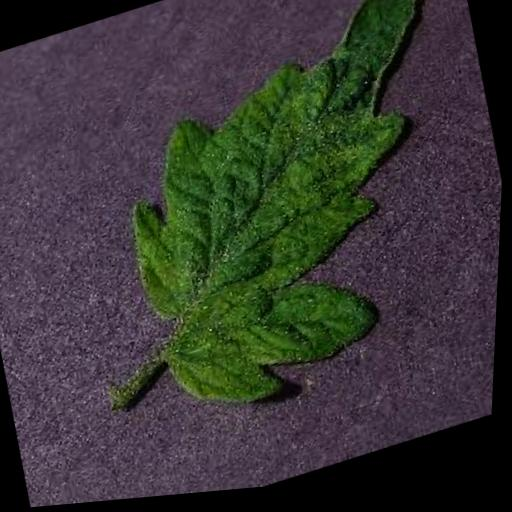Mosaic Virus: (88, 0, 509, 442)
